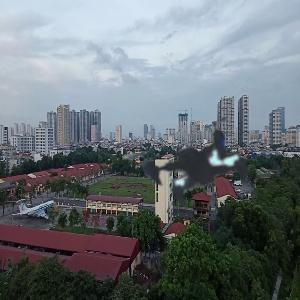drone: (97, 65, 300, 268)
